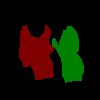maglia: (18, 23, 54, 80), (52, 25, 84, 82)
